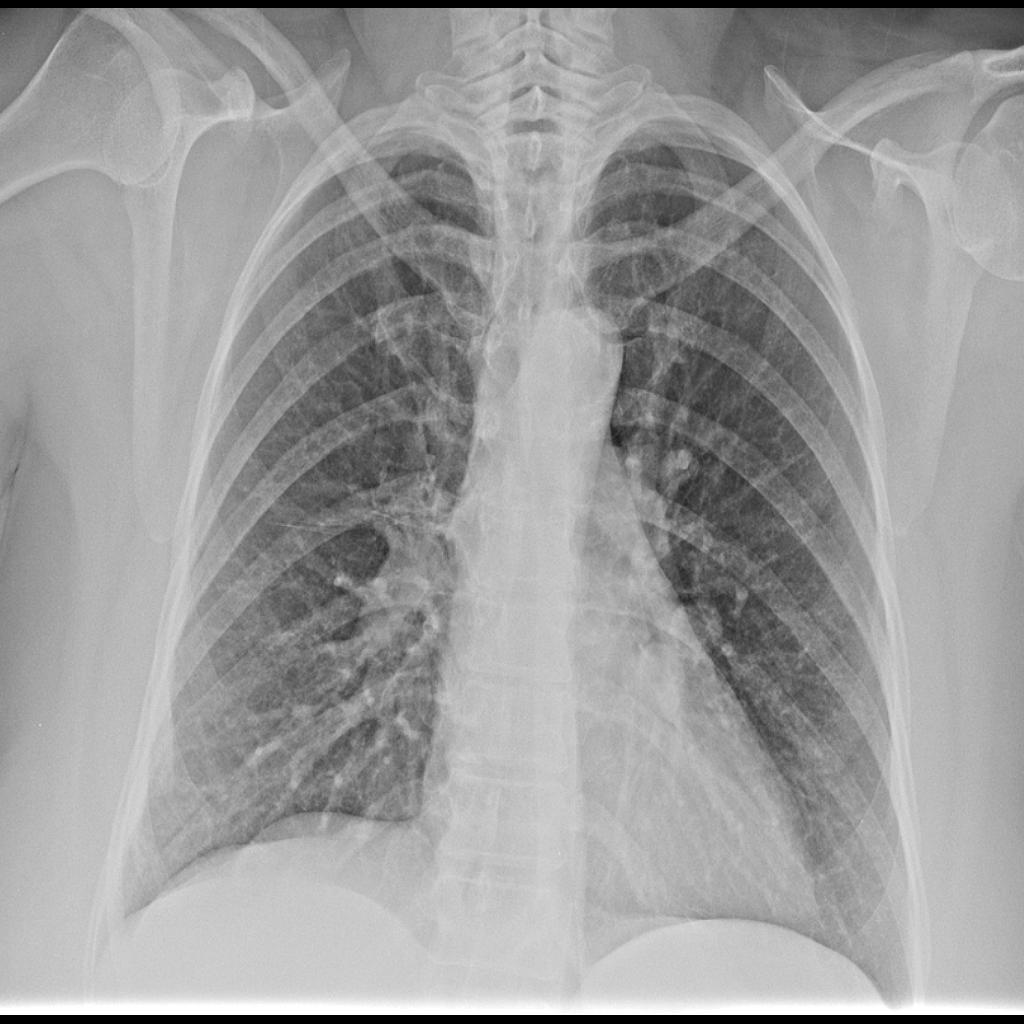Nodule: (666, 596, 731, 660)
